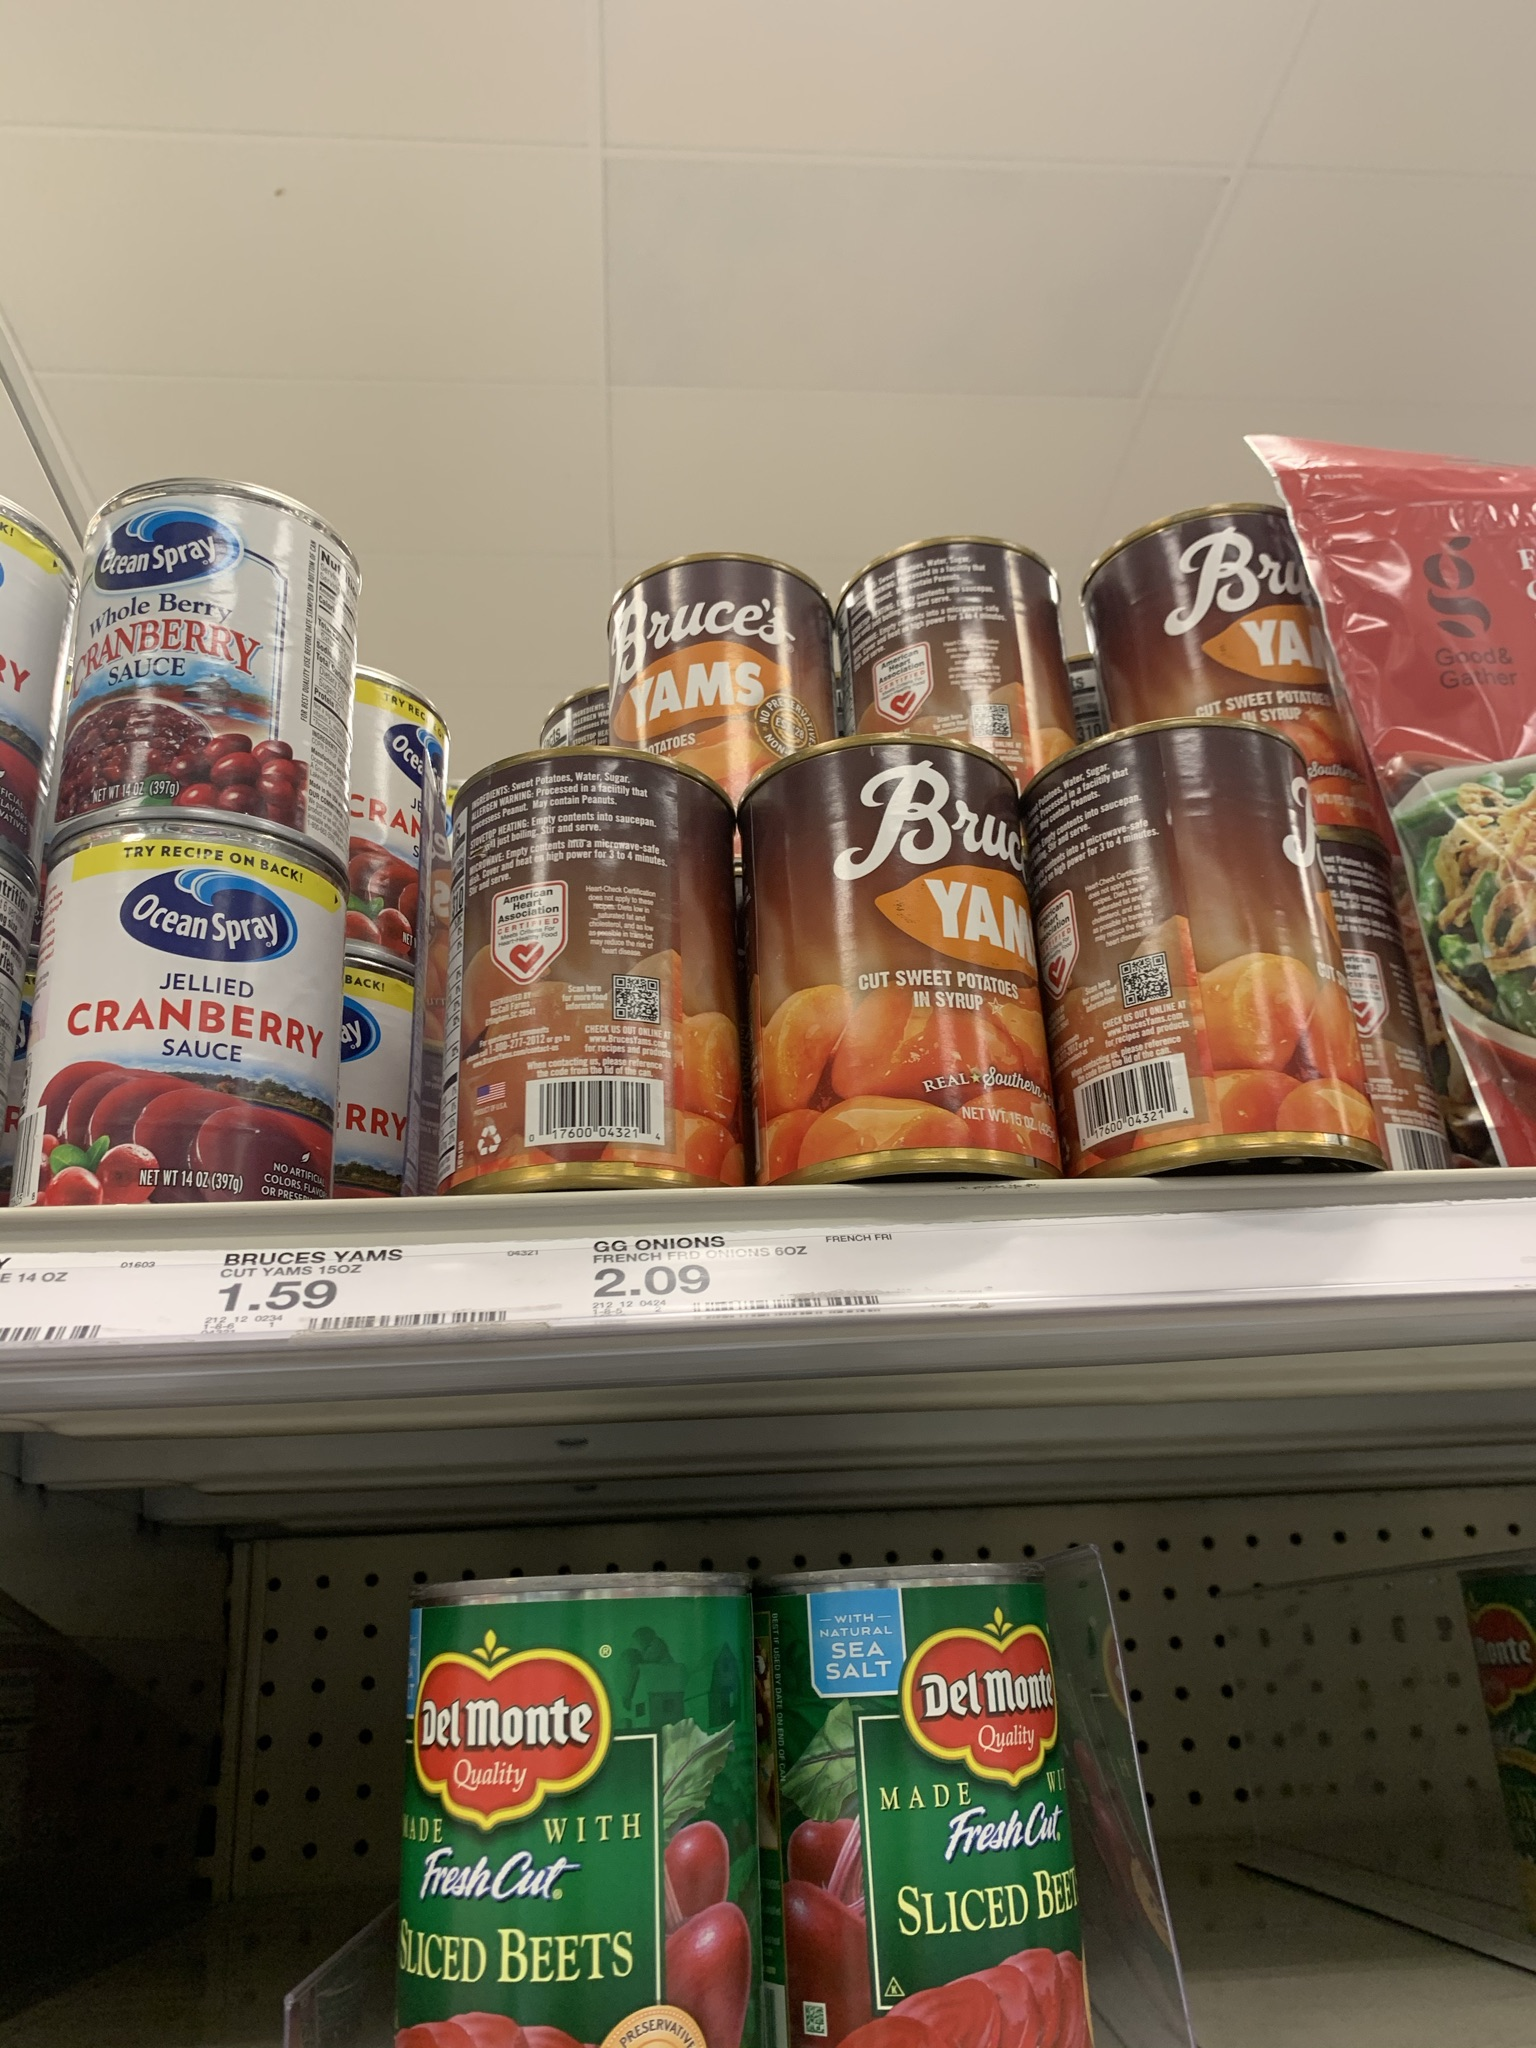can: (395, 1569, 765, 2045), (763, 1567, 1087, 2048), (1041, 718, 1360, 1159), (741, 735, 1041, 1176), (437, 748, 729, 1188), (26, 816, 345, 1205), (48, 476, 358, 818), (603, 555, 829, 747)
